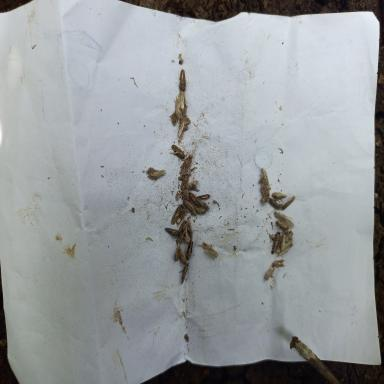pbw: (274, 210, 294, 230), (170, 203, 184, 225), (168, 144, 185, 160), (178, 68, 189, 92), (183, 198, 197, 216), (180, 154, 192, 174), (179, 262, 189, 284), (188, 192, 201, 207), (273, 230, 281, 254), (276, 240, 292, 252), (282, 195, 295, 209), (165, 227, 180, 239), (150, 169, 166, 180), (196, 198, 210, 210), (186, 180, 200, 192), (175, 94, 182, 118), (175, 210, 186, 225), (180, 174, 189, 192), (178, 244, 186, 264), (186, 240, 194, 260), (271, 192, 287, 202), (268, 197, 281, 209), (181, 220, 188, 242), (280, 232, 286, 252), (174, 247, 181, 264), (178, 120, 184, 137), (180, 91, 185, 110), (272, 260, 284, 267), (196, 194, 210, 200), (278, 248, 288, 255), (195, 208, 206, 214), (188, 224, 192, 240)
